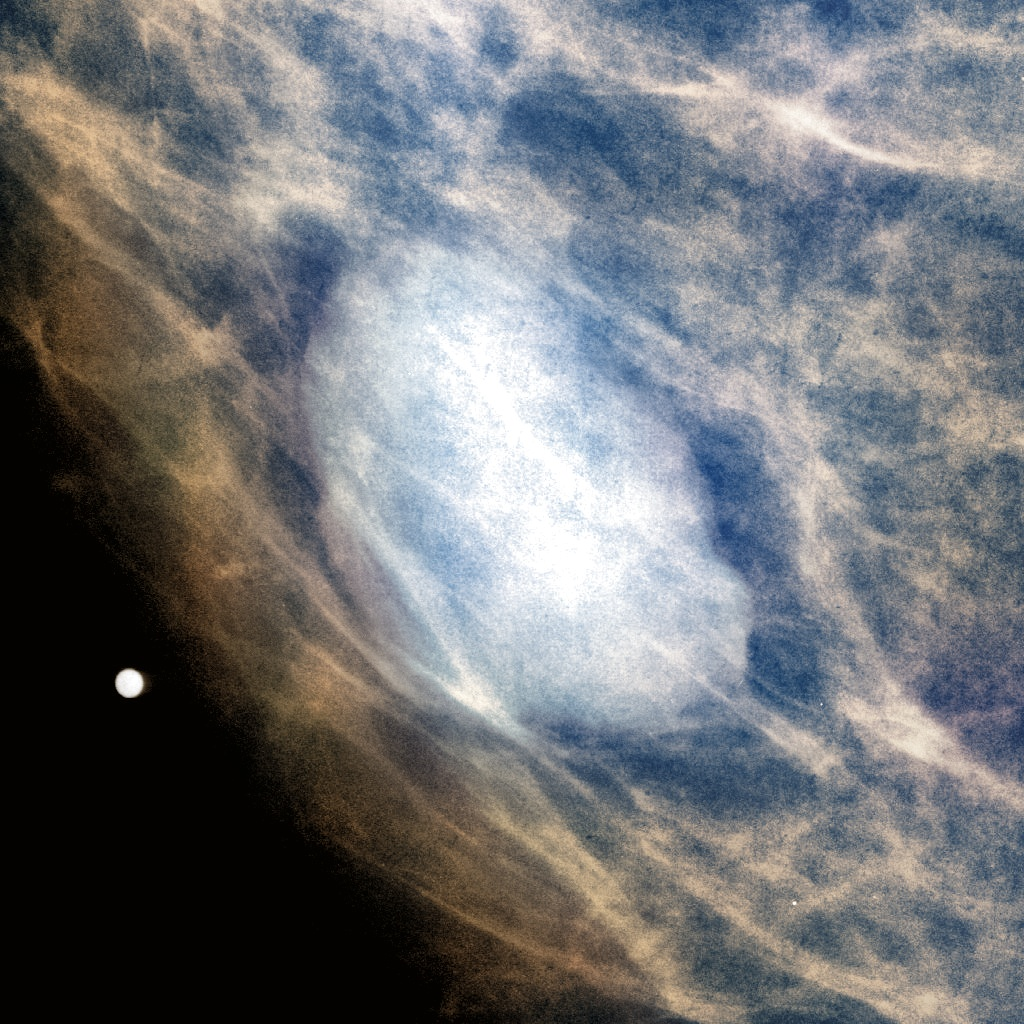tumor: (270, 244, 754, 780)
